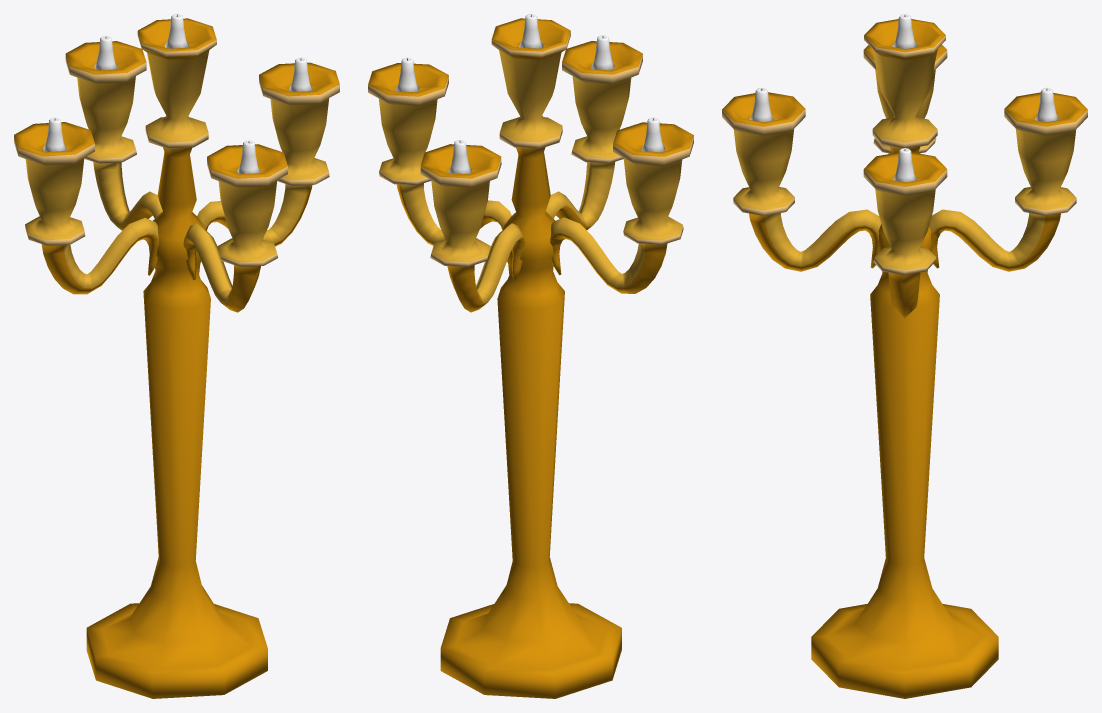
The model's file is candelabre.fbx.
The picture shows the model from 3 angles, left to right: view 1: azimuth 30°, elevation 25°; view 2: azimuth 150°, elevation 25°; view 3: azimuth 270°, elevation 25°; orthographic projection.
Visible parts, largest first — view 1: Candelabre, Bougie, Bougie.003, Bougie.001, Bougie.002, Bougie.004; view 2: Candelabre, Bougie.004, Bougie, Bougie.001, Bougie.002, Bougie.003; view 3: Candelabre, Bougie, Bougie.003, Bougie.004.
Part boxes in pixels (x1,y1,x2,y2): Candelabre: (14, 18, 339, 698); Bougie: (164, 14, 189, 48); Bougie.003: (94, 36, 117, 70); Bougie.001: (43, 117, 66, 151); Bougie.002: (289, 57, 312, 91); Bougie.004: (237, 140, 260, 174); Candelabre: (368, 18, 693, 698); Bougie.004: (591, 35, 614, 70); Bougie: (519, 14, 543, 48); Bougie.001: (641, 117, 665, 152); Bougie.002: (395, 57, 419, 92); Bougie.003: (448, 140, 471, 174); Candelabre: (722, 19, 1087, 698); Bougie: (892, 14, 917, 48); Bougie.003: (1035, 87, 1059, 122); Bougie.004: (749, 87, 773, 122).
Size of what is drawn, in the model's own units: 2.3 by 2.3 by 4.48.
